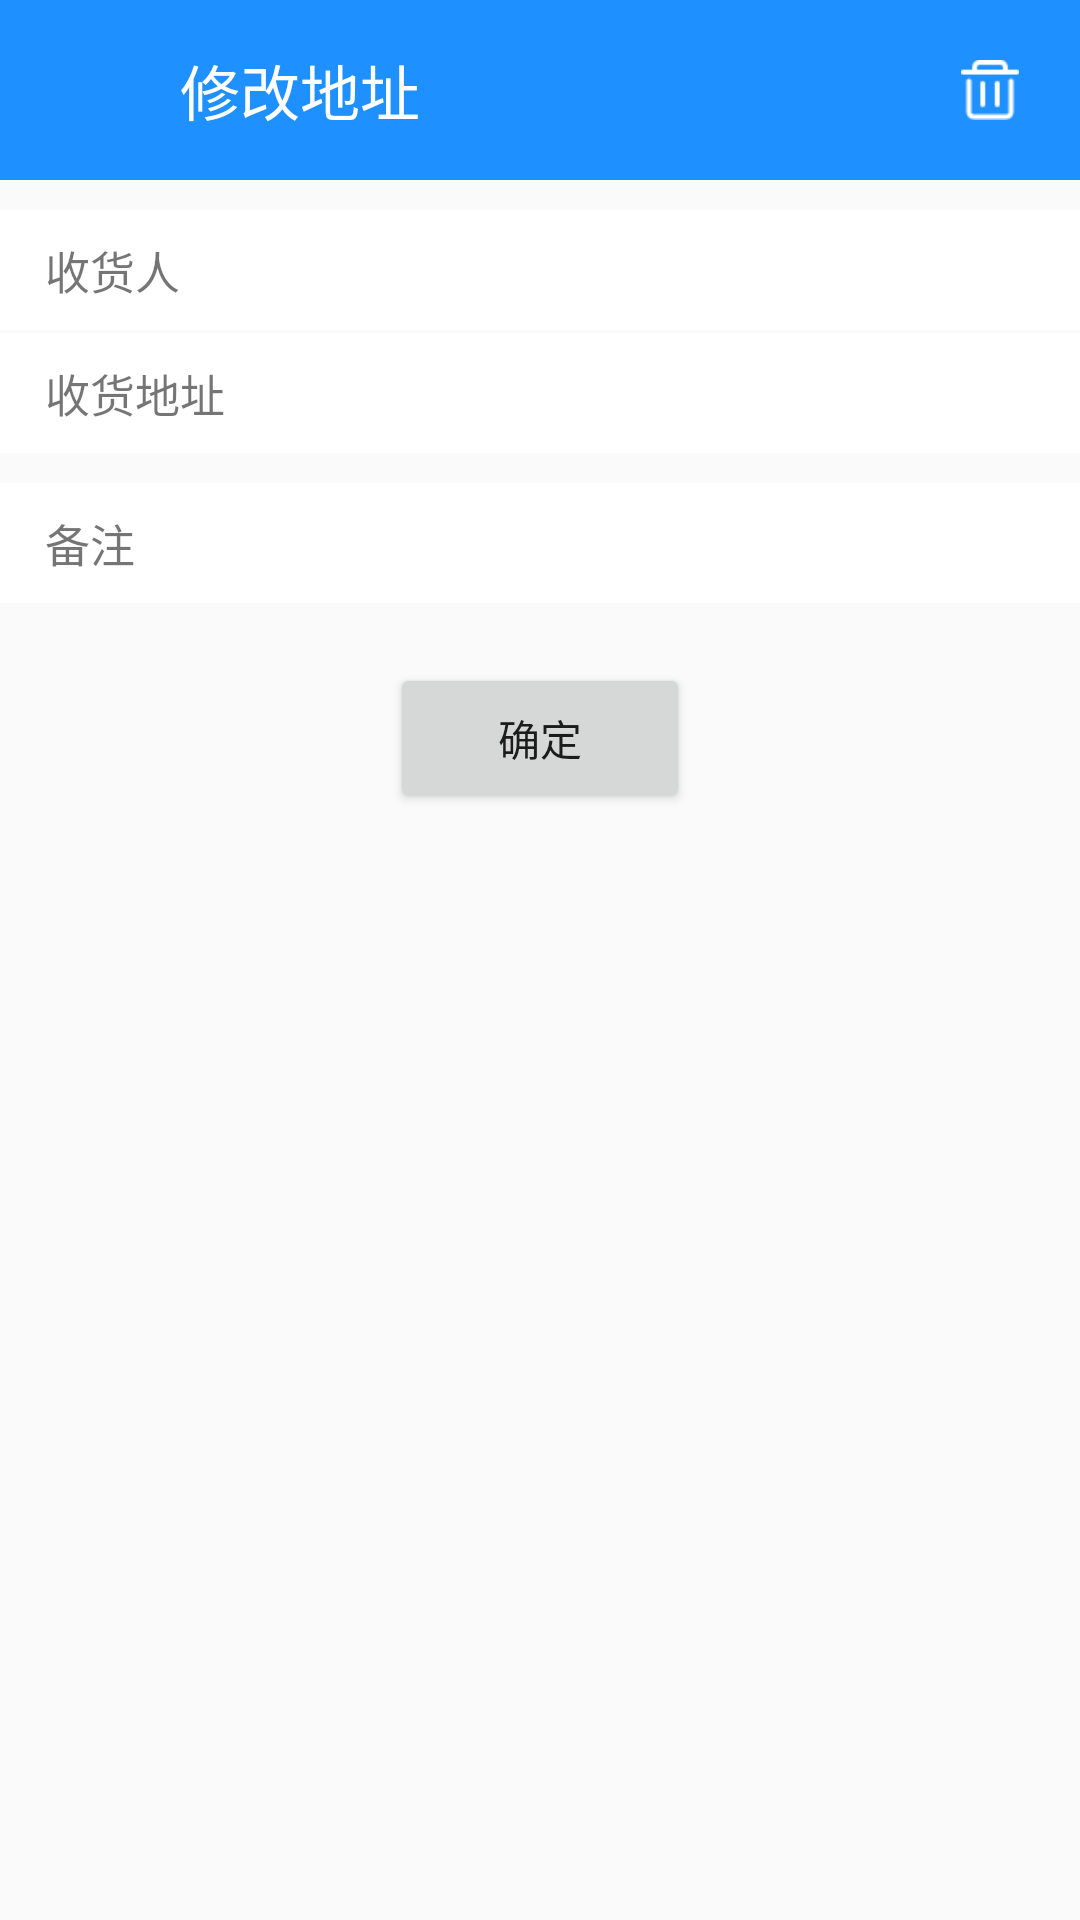

Where to tap for icons on this 1080x1920 app screen, as (x,y):
delete: (990,90)
